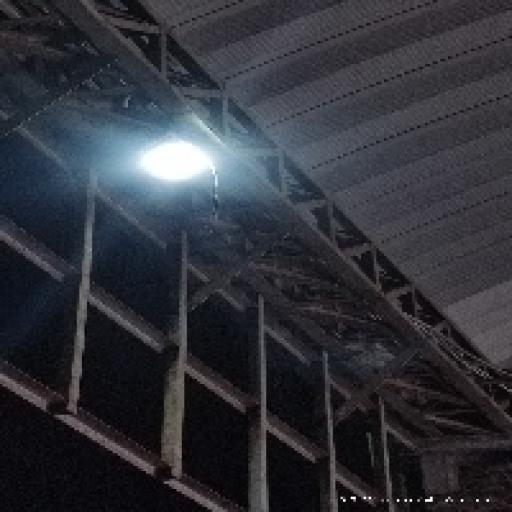Working: (130, 126, 223, 191)
